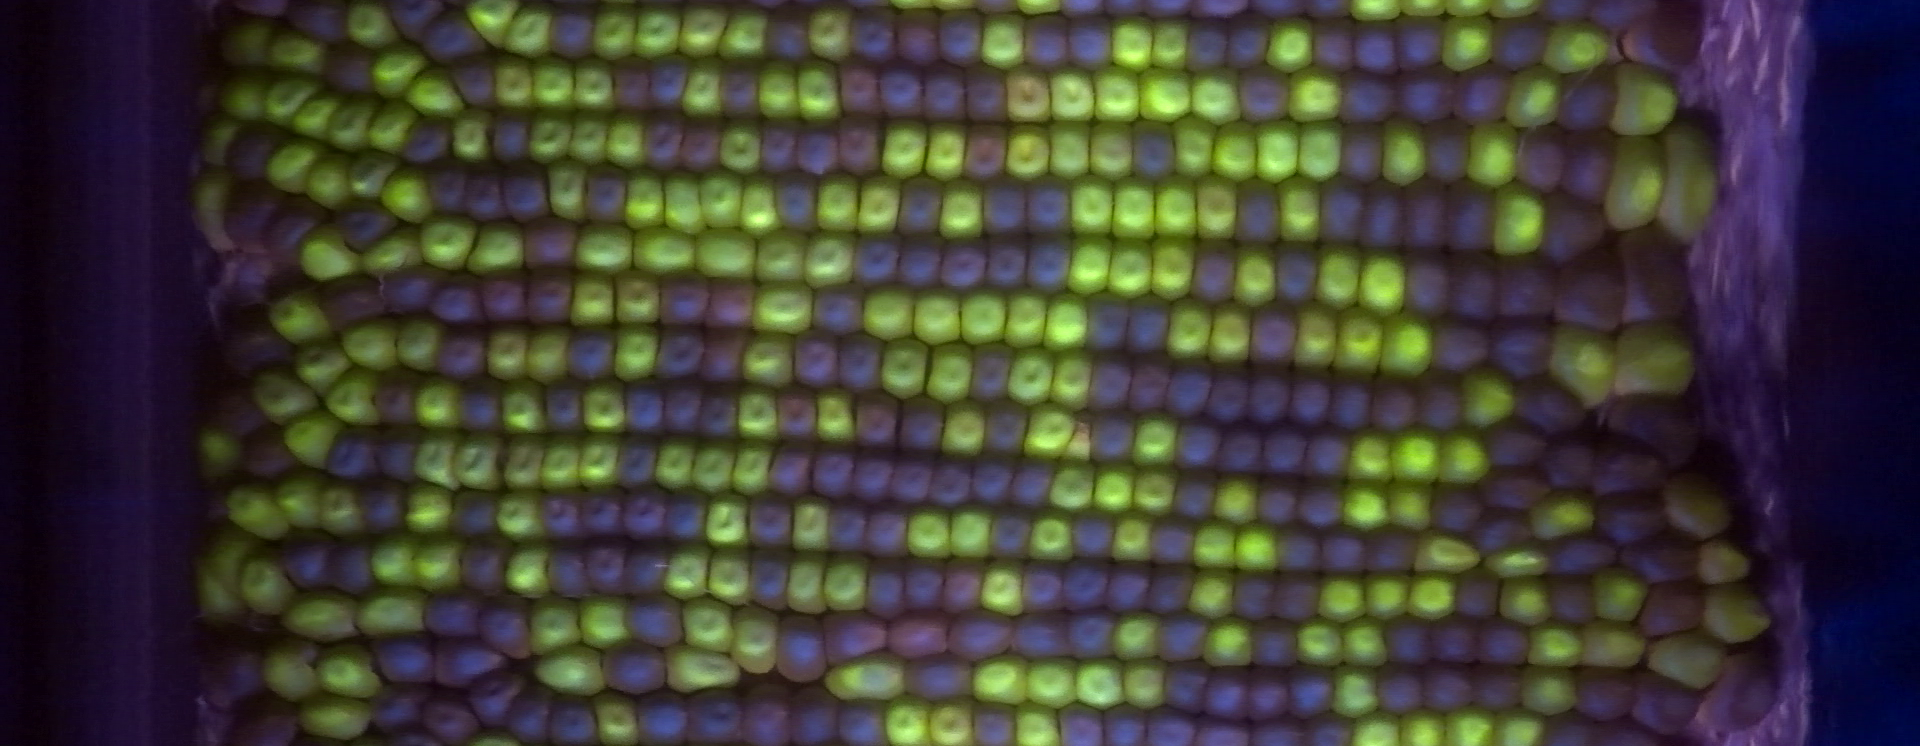fluorescent: (1659, 121, 1725, 252), (1609, 317, 1702, 403), (1609, 59, 1682, 149), (1605, 134, 1671, 232), (1551, 318, 1621, 410), (187, 160, 247, 258), (1651, 631, 1738, 695), (1370, 306, 1440, 382), (1700, 584, 1780, 648), (816, 650, 910, 704), (280, 404, 347, 480), (1491, 181, 1554, 261), (296, 225, 373, 288), (1542, 16, 1619, 78), (273, 593, 366, 644), (256, 632, 322, 704), (744, 281, 825, 338), (1467, 119, 1531, 191), (1659, 478, 1730, 541), (295, 688, 378, 742), (234, 550, 301, 616), (662, 638, 743, 693), (629, 220, 705, 278), (462, 218, 531, 281), (1262, 10, 1324, 81), (247, 364, 318, 425), (731, 601, 784, 684), (312, 643, 386, 702), (1505, 65, 1569, 132), (967, 649, 1036, 712), (1580, 621, 1656, 677), (227, 480, 296, 541), (1460, 363, 1521, 432), (1127, 407, 1187, 478), (530, 648, 612, 699), (1272, 171, 1329, 245), (687, 224, 760, 281), (336, 320, 409, 376), (320, 367, 384, 431), (1512, 661, 1580, 722), (856, 282, 920, 344), (416, 213, 481, 274), (1100, 235, 1160, 301), (1062, 232, 1120, 299), (1229, 243, 1287, 311), (880, 116, 936, 187), (1202, 299, 1254, 375), (343, 230, 429, 276), (700, 491, 758, 559), (1311, 239, 1364, 312), (289, 339, 359, 394), (693, 159, 744, 234), (1379, 111, 1430, 186), (1379, 478, 1442, 538), (909, 285, 967, 350), (937, 397, 996, 462), (1591, 565, 1656, 624), (1044, 65, 1102, 131), (1493, 571, 1559, 628), (878, 337, 933, 405), (184, 556, 239, 625), (1163, 296, 1217, 366), (204, 526, 258, 595), (189, 424, 250, 485), (1438, 423, 1495, 488), (393, 314, 449, 380), (923, 341, 978, 408), (1108, 174, 1162, 243), (733, 170, 784, 244), (814, 173, 867, 243), (804, 230, 864, 292), (751, 224, 813, 283), (955, 285, 1014, 348), (1389, 420, 1447, 483), (1091, 64, 1149, 127), (1414, 532, 1489, 581), (1063, 175, 1118, 241), (661, 167, 711, 239), (1149, 175, 1201, 244), (1146, 236, 1199, 305), (1070, 655, 1129, 717), (1000, 64, 1058, 126), (786, 488, 836, 559), (1531, 489, 1598, 541), (1251, 115, 1300, 187), (1288, 304, 1340, 372), (576, 376, 634, 436), (1022, 650, 1080, 712), (618, 163, 669, 233), (1002, 118, 1056, 183), (369, 527, 422, 592), (1041, 289, 1093, 355), (1442, 11, 1495, 77), (367, 43, 427, 100), (1134, 62, 1191, 122), (271, 472, 326, 534), (634, 1, 687, 66), (1087, 456, 1140, 521), (939, 179, 991, 245), (1193, 171, 1240, 243), (660, 546, 715, 608), (544, 157, 593, 225), (819, 557, 872, 621), (793, 58, 845, 122), (813, 385, 864, 450), (754, 62, 804, 129), (267, 292, 333, 342), (906, 505, 956, 571), (920, 114, 969, 181), (980, 560, 1033, 621), (1210, 468, 1261, 532), (1191, 65, 1242, 130), (572, 223, 637, 273), (1522, 617, 1587, 668), (564, 274, 622, 331), (1022, 404, 1078, 463), (301, 152, 355, 212), (405, 70, 468, 121), (1005, 343, 1057, 405), (948, 502, 999, 565), (1296, 115, 1342, 184), (1022, 514, 1078, 572), (589, 688, 644, 746), (218, 69, 277, 122), (380, 165, 433, 224), (312, 481, 366, 540), (351, 592, 430, 632), (978, 4, 1024, 73), (1344, 428, 1397, 488), (729, 439, 781, 499), (853, 174, 901, 240), (1337, 303, 1380, 376), (1108, 510, 1160, 571), (1046, 120, 1096, 183), (263, 73, 320, 129), (743, 334, 800, 390), (684, 439, 741, 494), (1286, 65, 1340, 122), (262, 138, 320, 192), (495, 492, 552, 546), (576, 594, 633, 648), (1048, 462, 1101, 521), (453, 434, 506, 492), (1333, 484, 1393, 535), (366, 96, 418, 156), (481, 322, 533, 382), (263, 29, 331, 75), (1046, 349, 1093, 413), (785, 556, 833, 620), (288, 85, 342, 141), (609, 273, 662, 330), (733, 386, 786, 443), (1232, 519, 1282, 579), (677, 1, 726, 62), (566, 108, 615, 169), (213, 18, 279, 64), (326, 93, 380, 148), (1187, 568, 1242, 622), (700, 549, 756, 603), (503, 4, 556, 60), (400, 489, 457, 541), (524, 323, 571, 387), (497, 380, 549, 437), (1131, 465, 1183, 523), (529, 599, 580, 657), (1003, 285, 1052, 345), (807, 1, 855, 62), (340, 2, 407, 47), (594, 4, 640, 66), (612, 330, 664, 386), (1367, 249, 1404, 325), (411, 538, 460, 597), (920, 697, 978, 746), (681, 62, 729, 122), (606, 107, 650, 171), (1485, 541, 1554, 583), (535, 435, 589, 488), (1114, 610, 1166, 665), (1407, 571, 1462, 622), (413, 431, 463, 488), (1360, 570, 1417, 620), (525, 111, 574, 169), (1191, 518, 1240, 576), (681, 598, 730, 655), (1109, 13, 1157, 72), (1212, 116, 1255, 181), (720, 9, 771, 62), (1326, 668, 1378, 722), (880, 695, 934, 746), (1200, 619, 1255, 669), (504, 545, 553, 601), (1171, 116, 1215, 179), (574, 56, 622, 114), (1446, 703, 1510, 746), (1150, 13, 1195, 73), (492, 54, 536, 115), (498, 435, 547, 490), (1701, 541, 1758, 588), (530, 59, 579, 113), (1318, 575, 1367, 628), (654, 437, 703, 491), (718, 121, 765, 176), (195, 116, 242, 171), (1297, 617, 1347, 669), (414, 379, 463, 431), (1120, 660, 1168, 714), (578, 436, 624, 491), (467, 1, 523, 47), (451, 103, 495, 160), (1010, 701, 1065, 746), (1089, 122, 1134, 176), (1489, 706, 1549, 746), (1344, 614, 1386, 671), (1401, 707, 1451, 746), (1354, 717, 1406, 746), (1349, 1, 1404, 22)
nonfluorescent: (1607, 394, 1706, 472), (1619, 1, 1716, 78), (1610, 229, 1682, 318), (1701, 657, 1780, 730), (429, 636, 516, 697), (192, 639, 269, 706), (1630, 666, 1704, 734), (1633, 579, 1709, 646), (742, 675, 811, 746), (819, 604, 895, 668), (604, 641, 678, 704), (257, 194, 321, 268), (478, 598, 549, 664), (1562, 122, 1618, 207), (313, 274, 396, 330), (1354, 174, 1411, 254), (216, 181, 282, 249), (687, 688, 764, 746), (771, 610, 834, 681), (1485, 317, 1555, 380), (1554, 266, 1629, 323), (1073, 287, 1130, 360), (1599, 431, 1667, 494), (1400, 176, 1455, 252), (622, 592, 694, 649), (420, 9, 497, 62), (360, 424, 429, 484), (959, 61, 1019, 129), (1520, 375, 1587, 435), (1452, 247, 1506, 322), (735, 491, 800, 552), (1515, 126, 1573, 194), (1236, 179, 1293, 247), (421, 590, 492, 644), (1547, 432, 1611, 491), (1068, 12, 1125, 78), (225, 127, 291, 185), (1119, 290, 1171, 364), (1327, 365, 1379, 439), (369, 682, 437, 737), (318, 537, 380, 598), (1392, 62, 1452, 125), (790, 684, 850, 746), (429, 269, 491, 330), (932, 238, 996, 296), (804, 288, 869, 345), (375, 637, 441, 693), (223, 317, 290, 372), (895, 171, 945, 245), (1626, 534, 1703, 582), (1318, 175, 1370, 245), (1498, 254, 1559, 314), (1417, 658, 1479, 717), (507, 686, 569, 745), (977, 396, 1033, 461), (1145, 555, 1201, 620), (833, 330, 884, 401), (1413, 367, 1464, 439), (382, 263, 448, 318), (1164, 356, 1218, 424), (463, 670, 531, 723), (1201, 668, 1262, 726), (475, 269, 536, 328), (1370, 371, 1428, 434), (1402, 254, 1453, 323), (891, 392, 947, 457), (1153, 661, 1218, 717), (1024, 171, 1078, 238), (1449, 180, 1501, 247), (1205, 367, 1258, 435), (944, 609, 1016, 658), (1452, 62, 1510, 124), (1453, 566, 1515, 624), (520, 269, 577, 332), (1559, 67, 1622, 122), (1572, 668, 1636, 723), (1597, 494, 1663, 546), (1369, 661, 1435, 714), (1007, 614, 1078, 663), (331, 202, 402, 251), (1549, 533, 1621, 581), (1420, 118, 1471, 186), (846, 387, 901, 450), (447, 488, 509, 543), (436, 330, 500, 383), (1271, 243, 1322, 309), (1471, 659, 1529, 717), (541, 541, 600, 599), (715, 59, 771, 119), (1545, 196, 1602, 256), (456, 537, 512, 597), (1384, 610, 1439, 671), (820, 499, 876, 560), (692, 382, 746, 445), (835, 113, 884, 181), (1471, 511, 1534, 563), (1191, 243, 1243, 307), (1130, 119, 1180, 185), (451, 380, 508, 437), (217, 388, 277, 443), (370, 372, 430, 428), (980, 175, 1029, 243), (1253, 306, 1302, 374), (940, 4, 992, 67), (893, 234, 949, 292), (1172, 416, 1229, 473), (1082, 404, 1140, 461), (580, 541, 639, 597), (1431, 314, 1487, 372), (934, 552, 988, 612), (786, 331, 838, 393), (1351, 16, 1401, 80), (1149, 512, 1205, 568), (1234, 70, 1292, 125), (278, 1, 348, 47), (421, 693, 481, 746), (278, 530, 338, 583), (224, 699, 291, 746), (634, 695, 698, 744), (1430, 612, 1487, 668), (502, 168, 557, 224), (1392, 15, 1446, 72), (790, 122, 842, 181), (1100, 559, 1152, 617), (887, 610, 953, 657), (746, 552, 795, 615), (1479, 423, 1547, 468), (900, 657, 971, 699), (1337, 69, 1392, 124), (1256, 428, 1311, 483), (1022, 236, 1076, 293), (1182, 18, 1234, 76), (696, 326, 748, 383), (1304, 426, 1357, 484), (1365, 523, 1423, 576), (1153, 609, 1211, 661), (1477, 468, 1545, 512), (542, 379, 593, 439), (896, 551, 945, 612), (980, 235, 1035, 289), (1248, 619, 1303, 673), (894, 9, 947, 65), (1485, 20, 1542, 72), (770, 386, 823, 442), (1016, 562, 1069, 619), (844, 7, 895, 65), (918, 66, 970, 124), (1100, 695, 1157, 746), (1217, 419, 1267, 478), (1051, 696, 1109, 746), (833, 699, 895, 746), (324, 42, 378, 96), (1548, 572, 1603, 625), (1060, 557, 1113, 612), (642, 55, 692, 113), (852, 234, 902, 292), (961, 121, 1007, 185), (969, 345, 1014, 409), (873, 62, 927, 115), (661, 486, 713, 541), (516, 219, 578, 265), (447, 61, 508, 107), (869, 510, 922, 562), (541, 9, 594, 61), (1476, 619, 1529, 670), (807, 448, 861, 500), (1271, 575, 1322, 628), (1240, 670, 1291, 725), (1284, 668, 1335, 723), (964, 696, 1019, 746), (1067, 605, 1116, 661), (1232, 567, 1278, 626), (1340, 122, 1385, 183), (763, 443, 813, 497), (356, 483, 407, 537), (770, 1, 814, 62), (704, 282, 759, 331), (1089, 353, 1133, 414), (880, 456, 936, 505), (864, 563, 909, 625), (322, 426, 378, 474), (615, 545, 673, 590), (774, 168, 819, 227), (1245, 374, 1291, 432), (567, 325, 616, 379), (655, 327, 700, 385), (757, 116, 801, 175), (653, 273, 704, 323), (1069, 510, 1120, 560), (1309, 18, 1358, 71), (1319, 526, 1371, 575), (923, 456, 977, 503), (242, 424, 296, 472), (1269, 523, 1324, 570), (1025, 20, 1074, 71), (969, 451, 1018, 502), (1435, 481, 1483, 534), (834, 64, 880, 118), (551, 692, 598, 746), (658, 379, 703, 434), (1167, 470, 1222, 516), (588, 168, 627, 232), (585, 489, 629, 545), (1229, 17, 1273, 73), (458, 165, 507, 216), (1298, 477, 1349, 524), (1286, 365, 1325, 428), (403, 118, 457, 163), (1147, 704, 1205, 746), (1586, 1, 1653, 36), (680, 118, 722, 171), (424, 163, 471, 211), (623, 382, 664, 439), (987, 512, 1037, 557), (1009, 462, 1060, 506), (648, 109, 687, 167), (387, 1, 444, 40), (1544, 708, 1603, 746), (1129, 358, 1169, 413), (484, 118, 531, 164), (1300, 710, 1362, 746), (1255, 480, 1302, 526), (1190, 714, 1256, 746), (538, 489, 584, 533), (849, 452, 891, 499), (633, 488, 673, 537), (612, 62, 650, 110), (620, 439, 660, 481), (1244, 715, 1299, 746), (1190, 1, 1255, 23), (1547, 1, 1599, 24), (1145, 1, 1191, 20)
